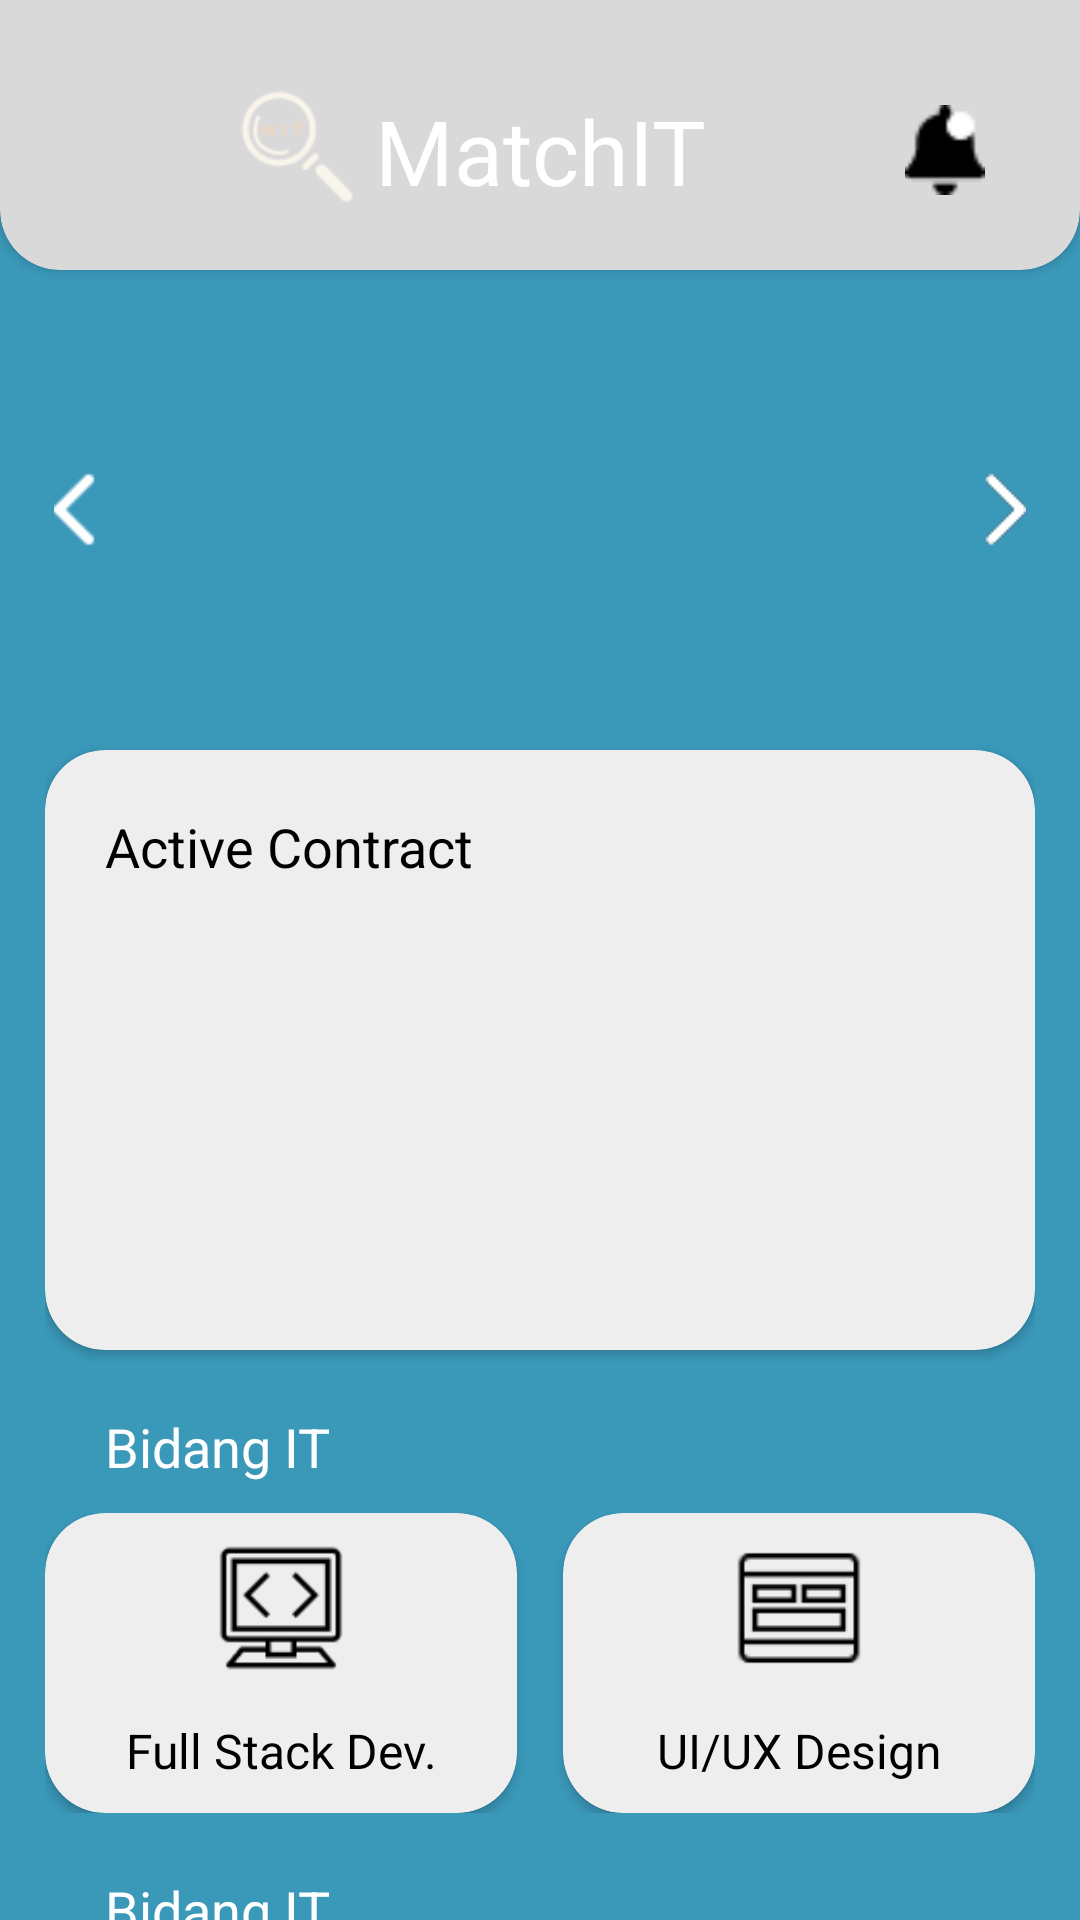

Where to tap for icons on this 1080px x 1920px app screen, as (x,y):
next: (1005,509)
